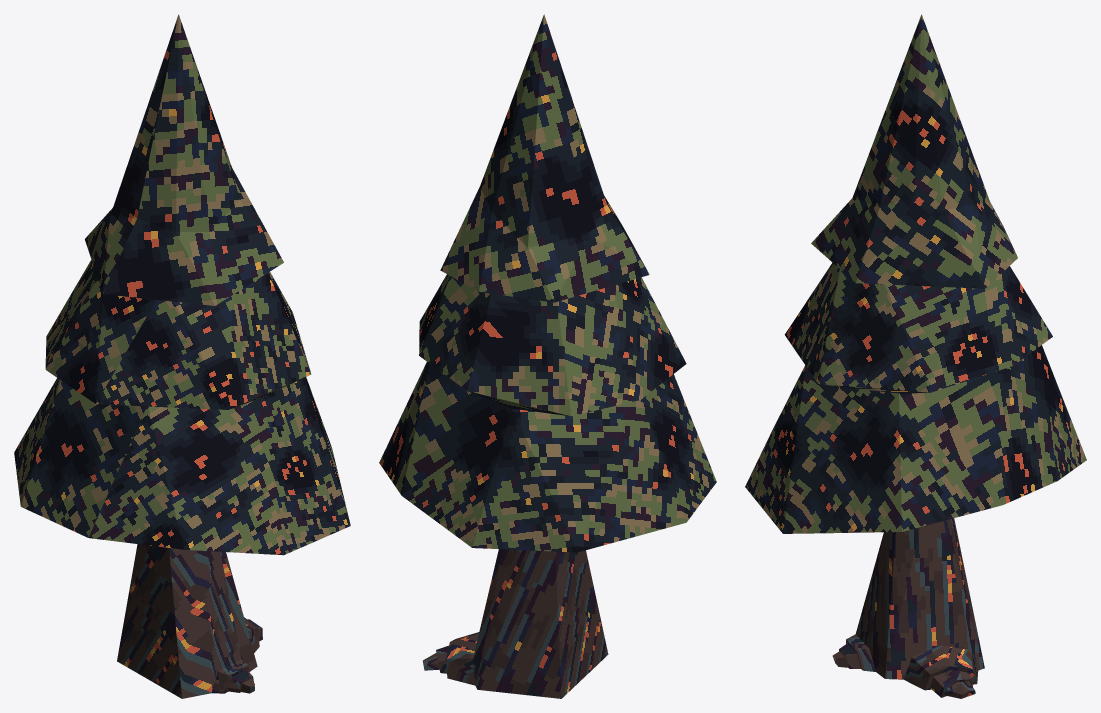
File: charred_tree_small.fbx
3 views of the same model, side by side, from view 1: azimuth 30°, elevation 25°; view 2: azimuth 150°, elevation 25°; view 3: azimuth 270°, elevation 25° (orthographic). The views are drawn at different scales.
Parts seen in each view (by area): view 1: Charred_Small_Tree; view 2: Charred_Small_Tree; view 3: Charred_Small_Tree.
Boxes of the visible parts, x1,y1,x2,y2 form: Charred_Small_Tree: [14, 14, 350, 698]; Charred_Small_Tree: [379, 14, 716, 698]; Charred_Small_Tree: [745, 14, 1086, 698].
Size of the model in its own units: 440 by 942 by 457.
Materials: 2 (2 with a texture image).
